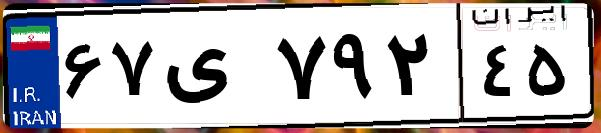2: (385, 28, 445, 110)
4: (475, 38, 525, 113)
5: (525, 38, 570, 115)
6: (57, 26, 110, 100)
7: (270, 28, 330, 110), (110, 28, 158, 98)
9: (330, 28, 385, 110)
ی: (158, 20, 270, 120)
